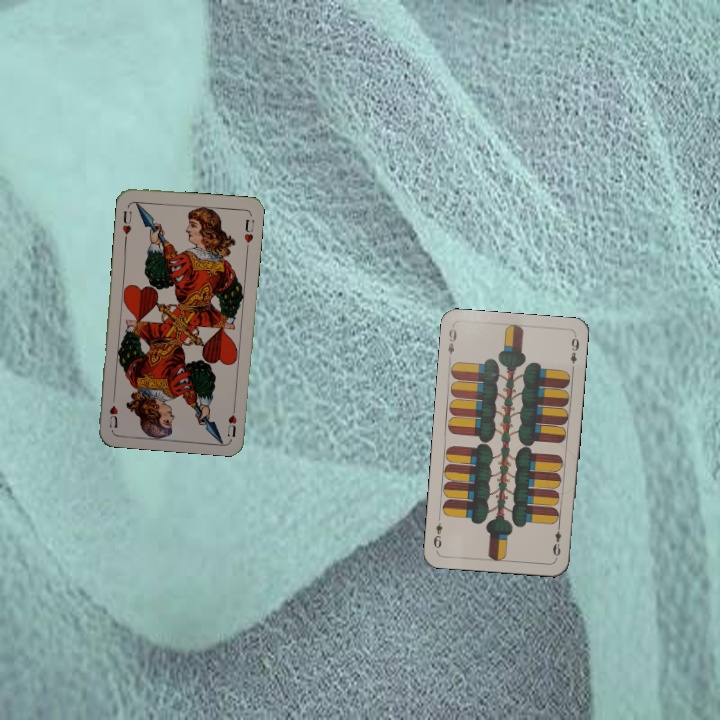E9: (444, 325, 459, 364), (549, 520, 564, 558)
HU: (223, 400, 239, 440), (118, 207, 134, 242)
